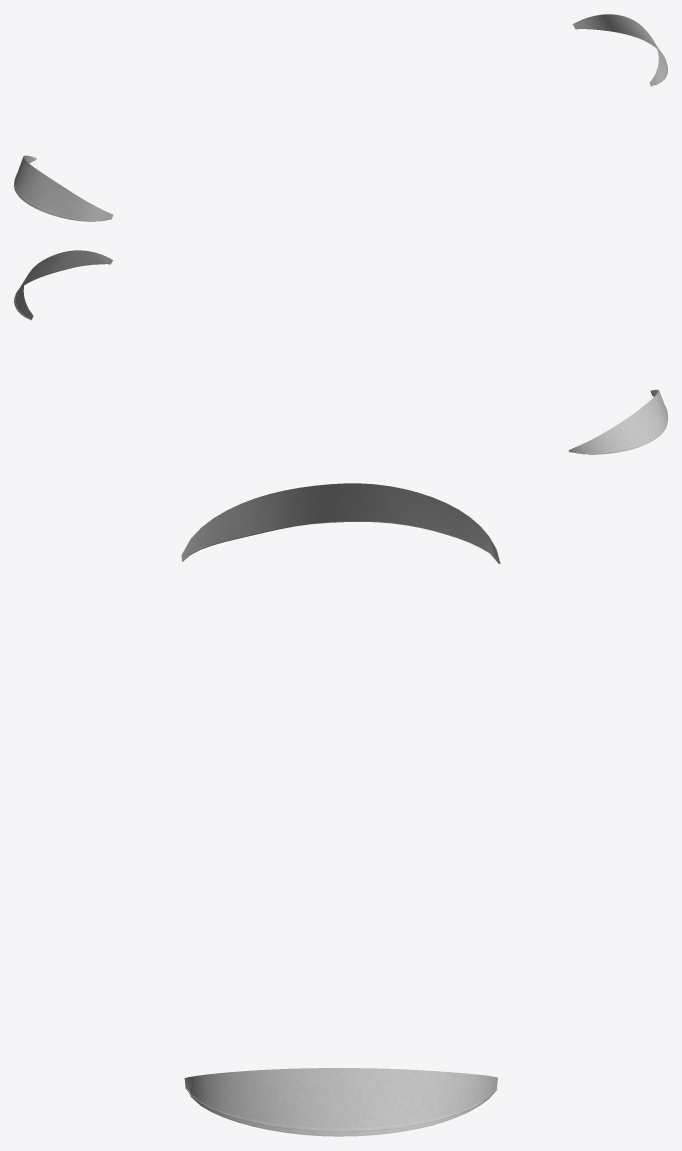
The model's file is Jac_COP_Hands.glb.
3 renders of one model, top to bottom at view 1: azimuth 30°, elevation 25°; view 2: azimuth 150°, elevation 25°; view 3: azimuth 270°, elevation 25°, orthographic. The views are drawn at different scales.
Visible parts, largest first — view 1: Jac_COP_Hands1; view 2: Jac_COP_Hands1; view 3: Jac_COP_Hands1, Rope1.
Boxes of the visible parts, bbox=[...] form: Jac_COP_Hands1: bbox=[14, 14, 667, 221]; Jac_COP_Hands1: bbox=[14, 250, 667, 454]; Jac_COP_Hands1: bbox=[181, 483, 499, 1136]; Rope1: bbox=[185, 562, 500, 1132].
Bounding box in the file's own units: 1.28 × 0.0546 × 0.2806.
2 materials, 2 textured.
